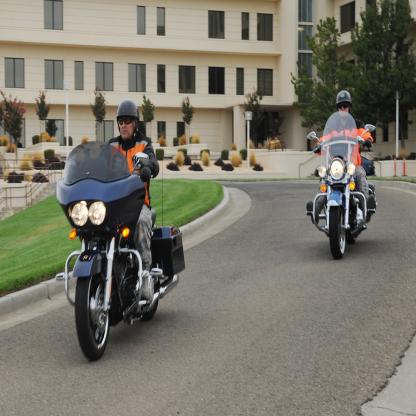Helmet: (110, 100, 138, 146), (336, 89, 352, 119)
